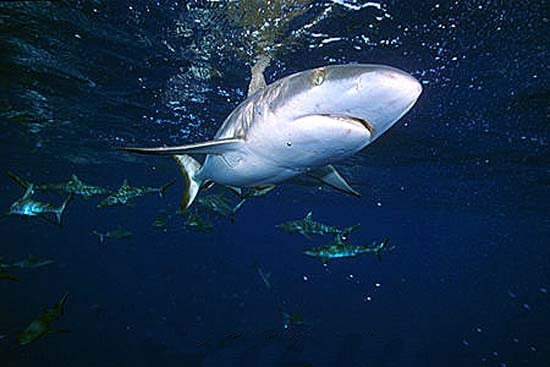Carcharhinus_amblyrhynchos: (112, 56, 431, 227)
